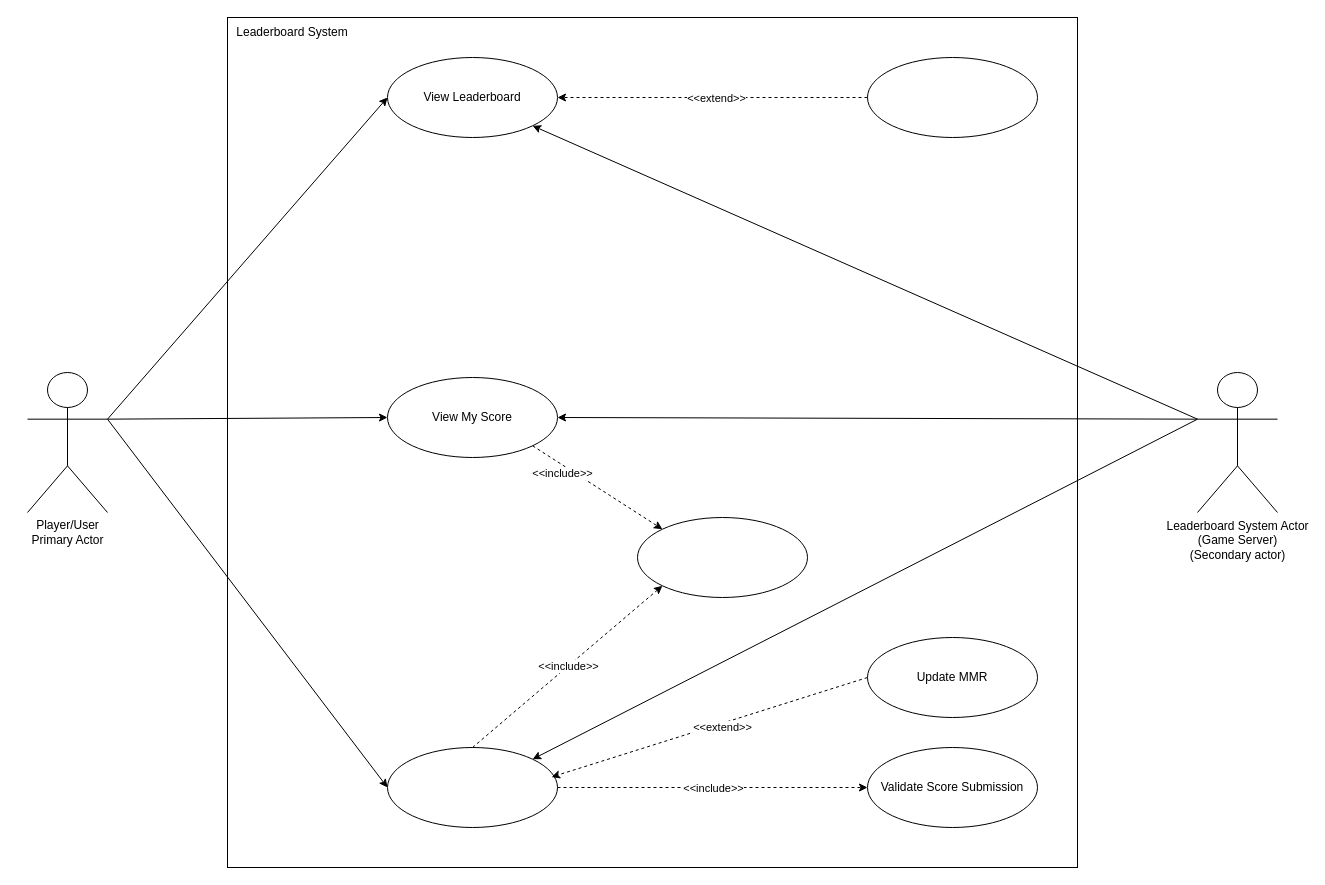
This 1325x885 diagram has some shape labels left out. The shapes that lost their labels are listed below. From the top down, each one's centre as x and y in pixels, then its label:
At pixel 952 97: "Filter Scores".
At pixel 722 557: "Authenticate User".
At pixel 472 787: "Submit Score".
